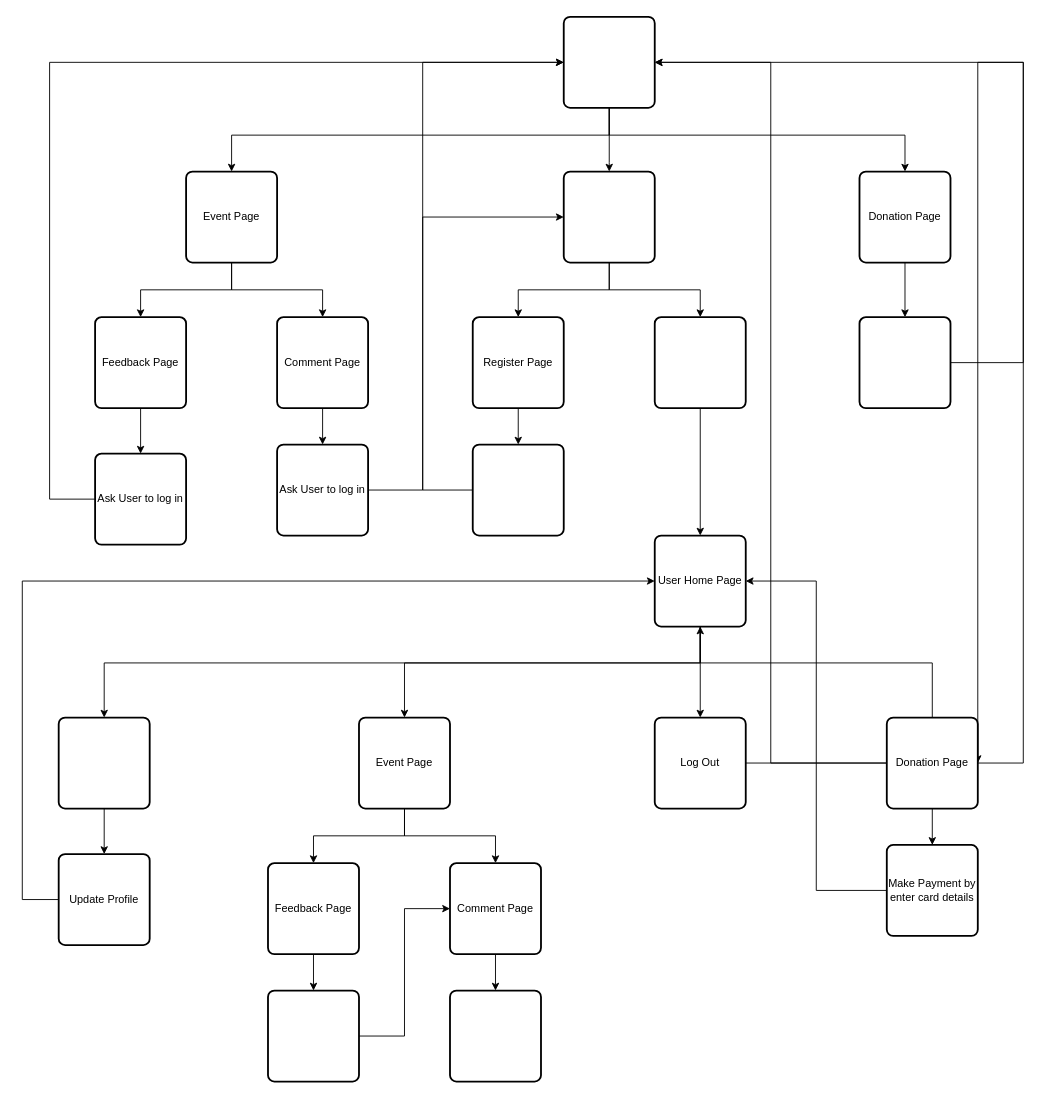
Some shapes in this 1047 by 1097 pixel diagram are drawn without their labels. Each missing label, with the centre of its shape:
Feedback Made: the point at 313,1035
Home page: the point at 608,61
Logged in: the point at 699,362
Login Page: the point at 608,216
Profile Page: the point at 103,762
Reminds User to Log in: the point at 904,362
Show Comment's: the point at 495,1035
User Account created: the point at 517,489
